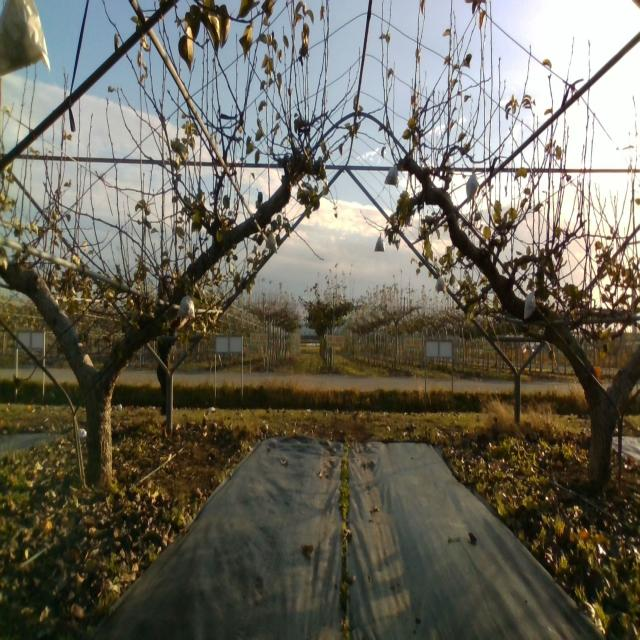pearbags: (0, 0, 53, 78), (177, 289, 195, 321), (523, 288, 537, 319), (466, 168, 477, 203), (383, 167, 401, 187), (265, 231, 278, 254), (434, 273, 446, 295), (374, 232, 384, 253)
